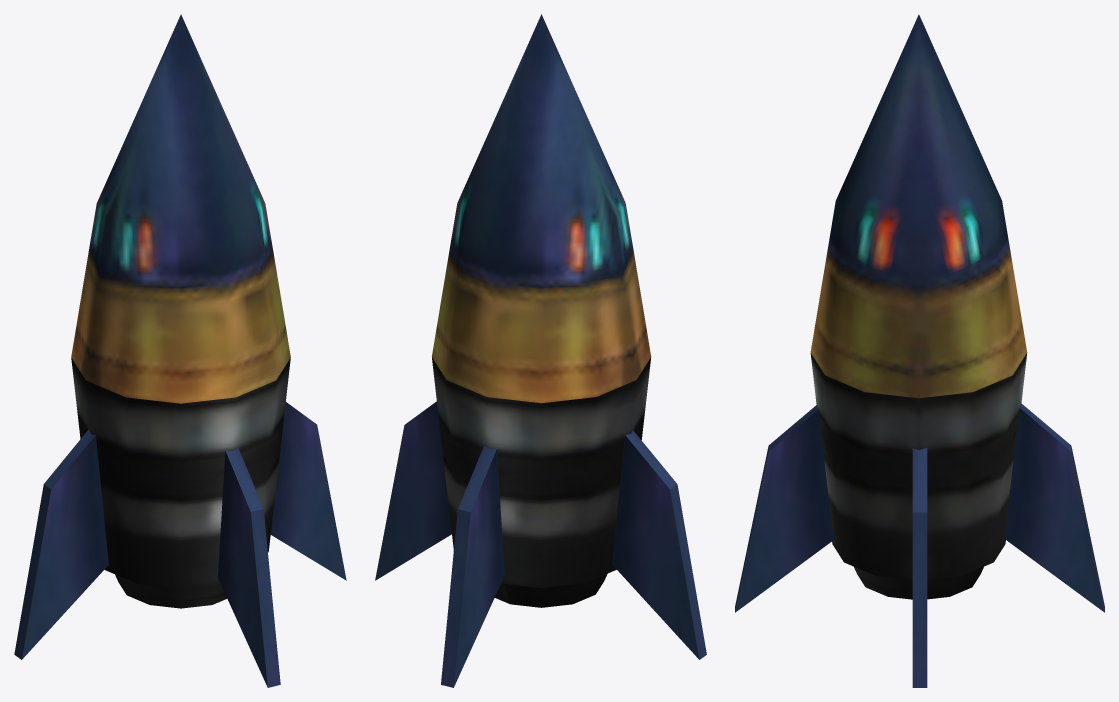
Rendered from zhs_tx04.FBX.
The picture shows the model from 3 angles, left to right: view 1: azimuth 30°, elevation 25°; view 2: azimuth 150°, elevation 25°; view 3: azimuth 270°, elevation 25°; orthographic projection.
Visible parts, largest first — view 1: zhs_tx004; view 2: zhs_tx004; view 3: zhs_tx004.
Boxes of the visible parts, <box> form: zhs_tx004: <box>14,14,346,687</box>; zhs_tx004: <box>375,14,706,687</box>; zhs_tx004: <box>735,14,1104,687</box>.
Bounding box in the file's own units: 0.5226 × 0.9286 × 0.5226.
